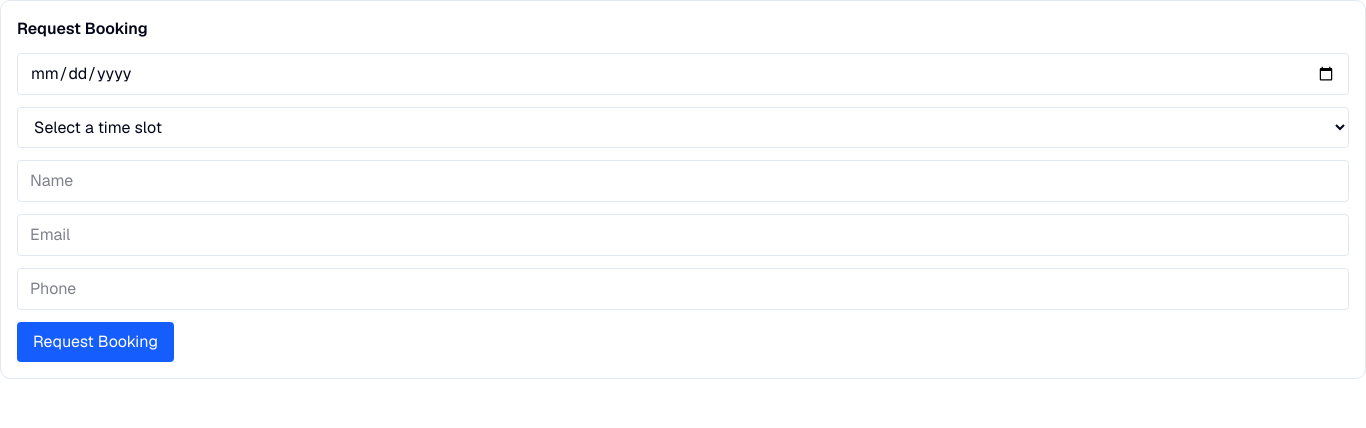
BookingRequestForm › API error shows error message
The width and height of the screenshot is (1366, 428).
Type "2026-03-03" into the date field at (683,74), box left=17, top=53, right=1349, bottom=95
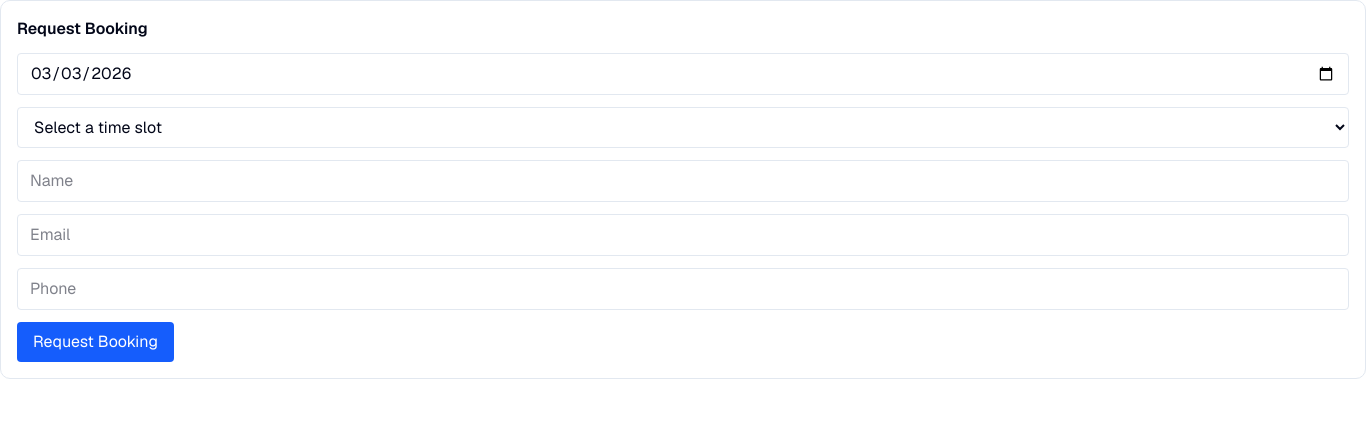
Select "3/3/2026, 2:00:00 PM" in the dropdown at (683,128), box left=17, top=107, right=1349, bottom=148
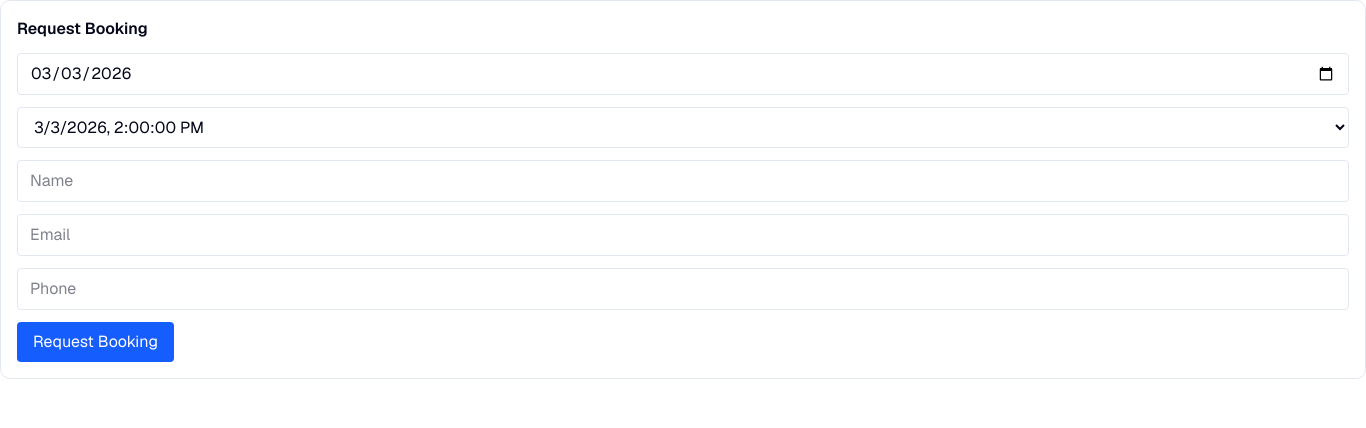
Type "Jane" into the field with placeholder "Name" at (683,181), box left=17, top=160, right=1349, bottom=202
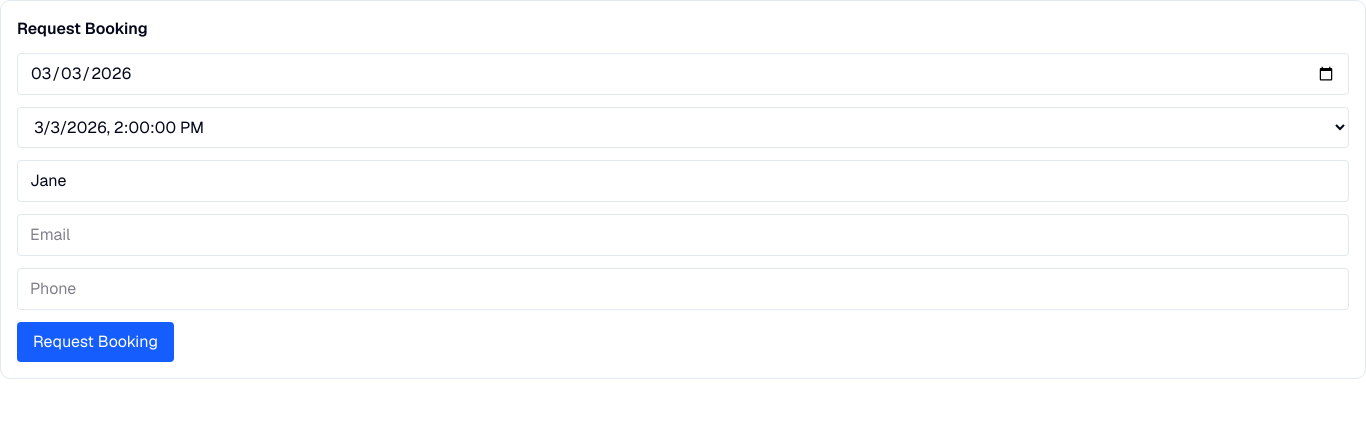
Type "jane@example.com" into the field with placeholder "Email" at (683,235), box left=17, top=214, right=1349, bottom=256
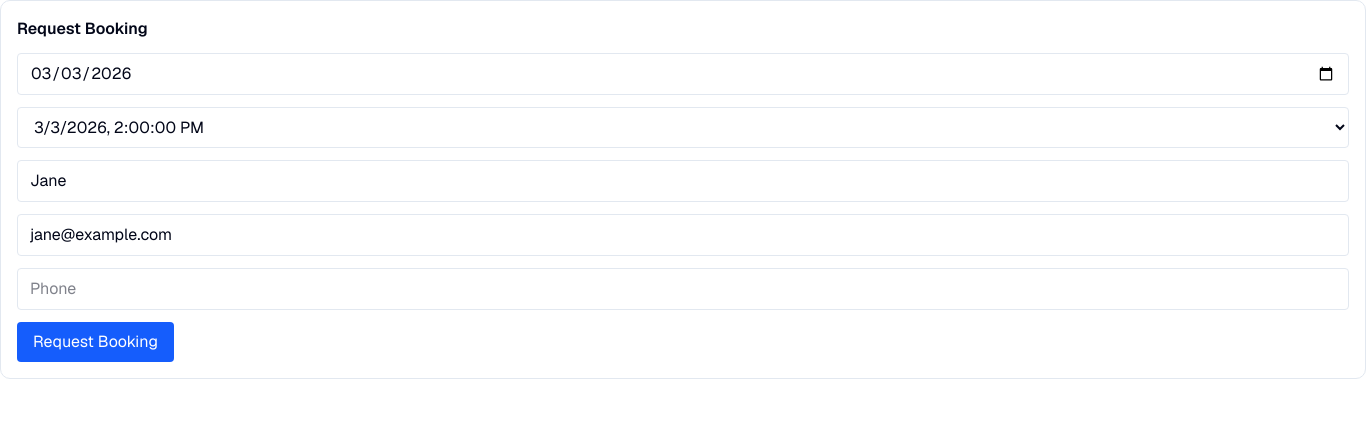
Type "1234567890" into the field with placeholder "Phone" at (683,289), box left=17, top=268, right=1349, bottom=310
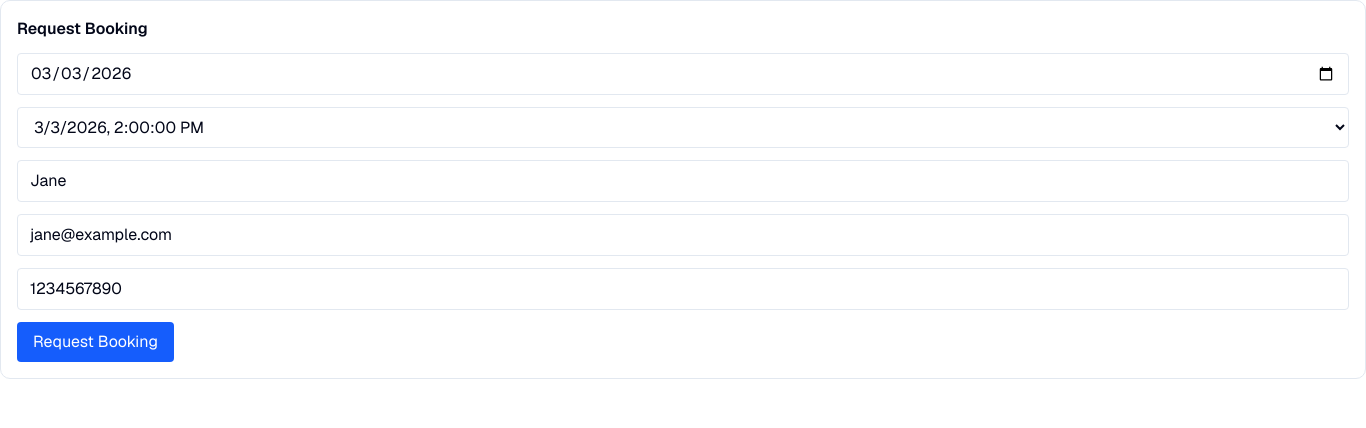
Click the button "Request Booking" at (96,342), box left=17, top=322, right=174, bottom=362
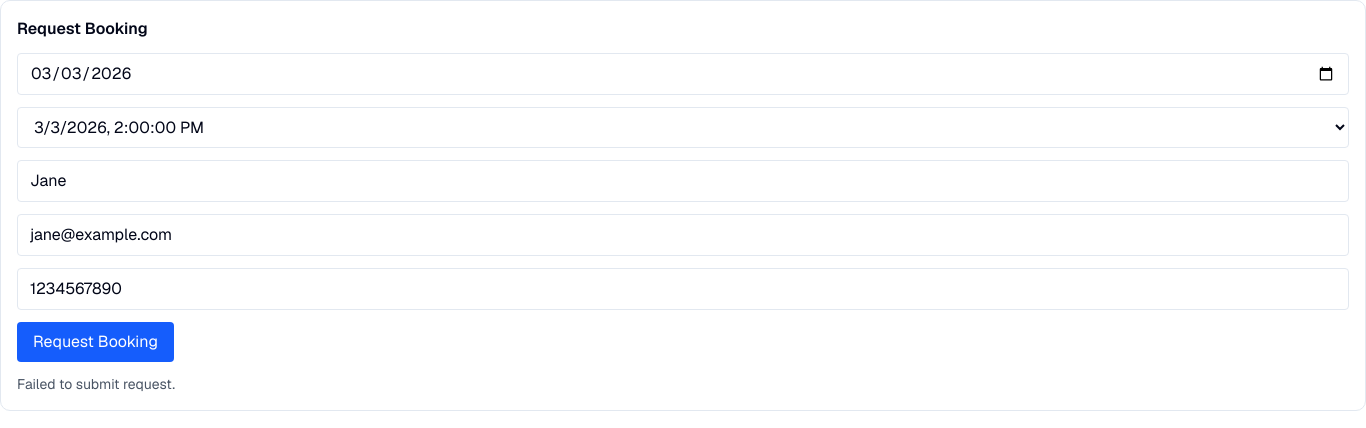
Now the text "Failed to submit request." is shown, box left=17, top=375, right=175, bottom=393
